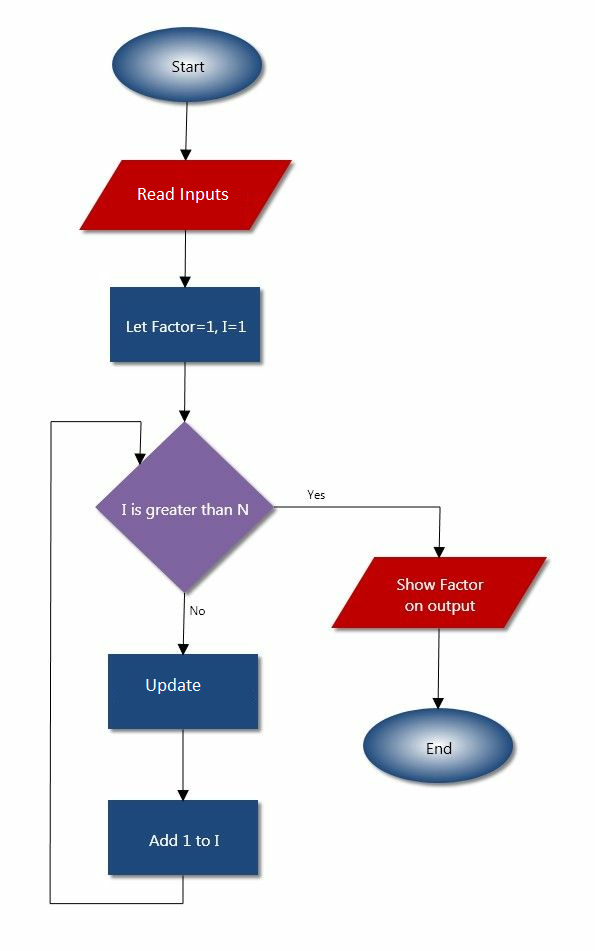arrow: (44, 414, 187, 908), (266, 502, 447, 560), (173, 585, 195, 654), (176, 95, 198, 162), (430, 630, 447, 714), (173, 729, 192, 803), (177, 361, 197, 426), (176, 226, 192, 291)
data: (76, 152, 295, 236), (325, 554, 554, 632)
decision: (87, 419, 281, 600)
process: (101, 278, 269, 371), (103, 791, 268, 885), (101, 648, 267, 736)
terminator: (361, 702, 522, 791), (107, 24, 270, 111)
text: (388, 569, 489, 619), (115, 495, 259, 525), (121, 311, 253, 336), (130, 182, 235, 207), (139, 827, 229, 854), (139, 672, 206, 700), (420, 733, 460, 761), (166, 54, 208, 78), (299, 482, 333, 505), (186, 598, 208, 624)
